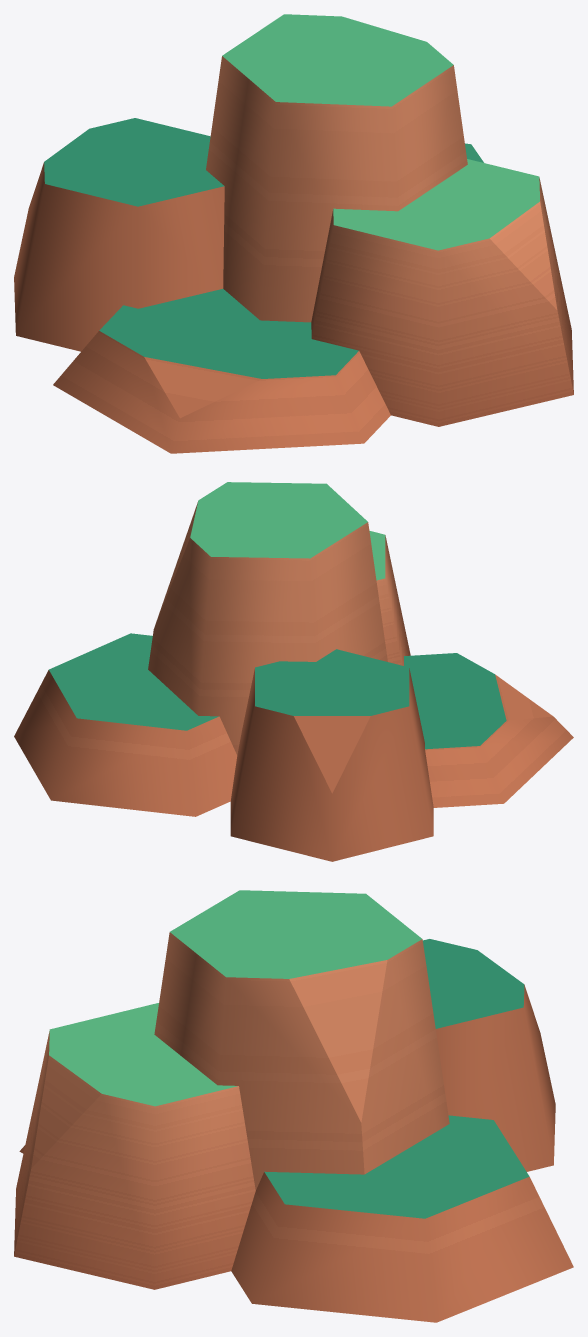
Rendered from detail-dirt-large.glb.
3 views of the same model, one above another, from view 1: azimuth 30°, elevation 25°; view 2: azimuth 150°, elevation 25°; view 3: azimuth 270°, elevation 25° (orthographic). The views are drawn at different scales.
Parts seen in each view (by area): view 1: detail-dirt-large; view 2: detail-dirt-large; view 3: detail-dirt-large.
Boxes of the visible parts, bbox=[...] form: detail-dirt-large: bbox=[14, 14, 573, 453]; detail-dirt-large: bbox=[14, 482, 573, 861]; detail-dirt-large: bbox=[14, 890, 573, 1322].
Bounding box in the file's own units: 0.8531 × 0.4145 × 0.7785.
1 material, 1 textured.
